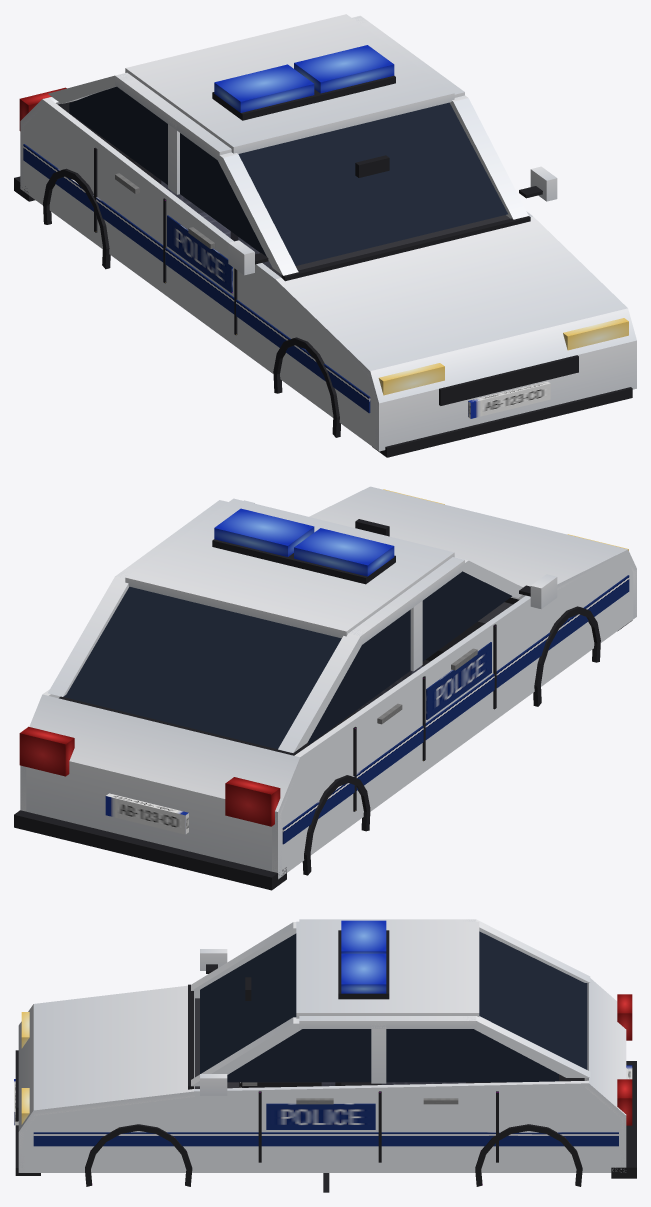
Rendered from police_clio.obj.
3 views of the same model, one above another, from view 1: azimuth 30°, elevation 25°; view 2: azimuth 150°, elevation 25°; view 3: azimuth 270°, elevation 25° (orthographic). The views are drawn at different scales.
Visible parts, largest first — view 1: chassis; view 2: chassis; view 3: chassis.
Boxes of the visible parts, <box> form: chassis: <box>14,14,636,457</box>; chassis: <box>14,486,636,890</box>; chassis: <box>14,919,636,1186</box>.
Bounding box in the file's own units: 2.04 × 1.69 × 4.15.
Materials: 1 (1 with a texture image).
